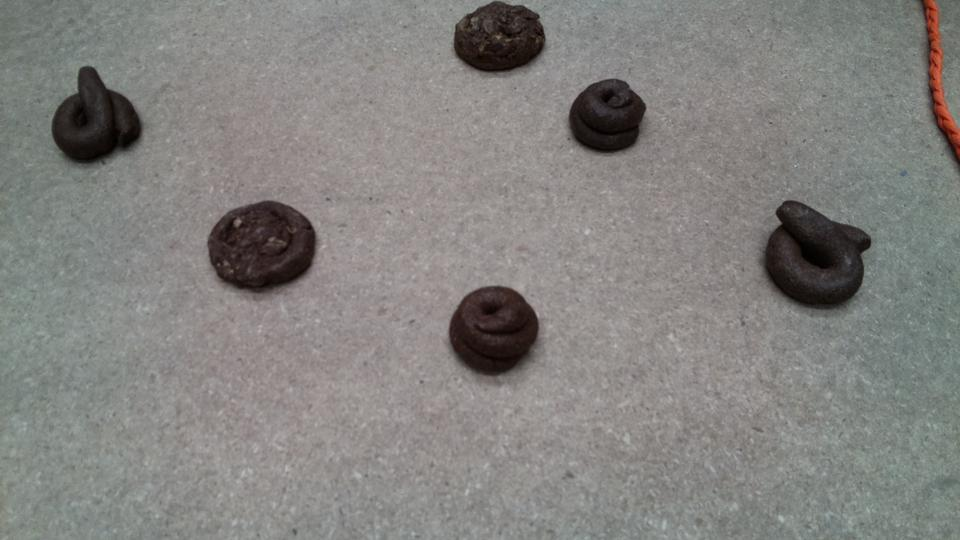poop: (763, 197, 874, 313), (206, 197, 319, 295), (47, 60, 143, 169), (445, 283, 542, 379), (450, 1, 551, 79), (564, 75, 652, 156)
rope: (920, 1, 959, 156)
